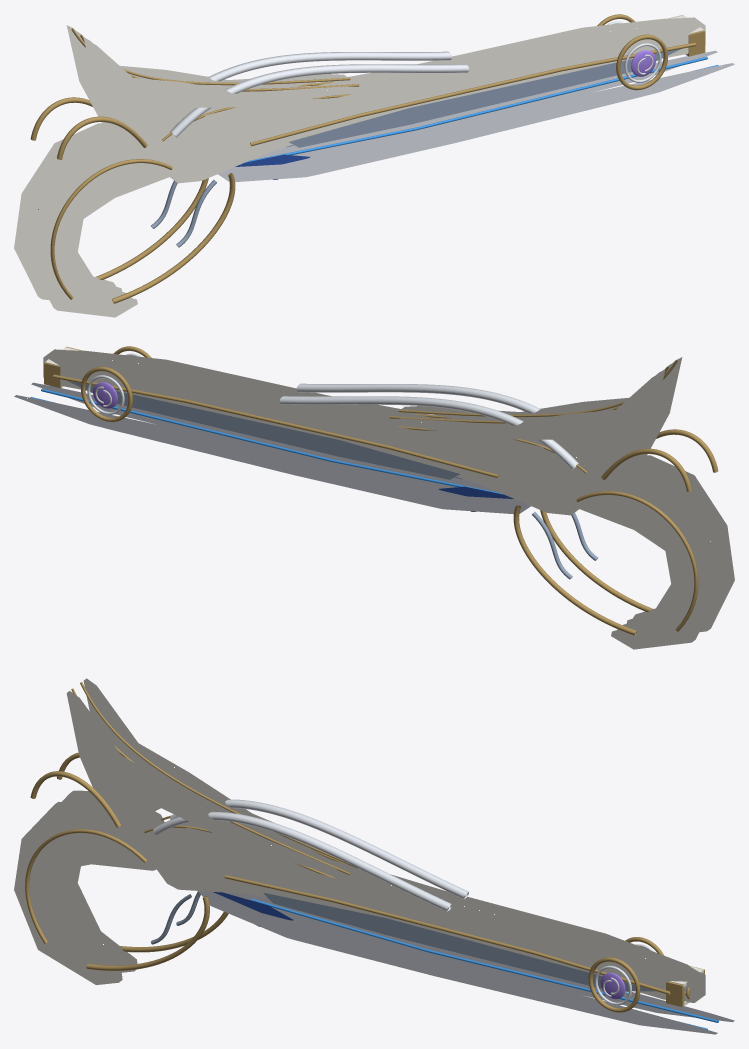
The model's file is lux_and_umbra.obj.
3 views of the same model, one above another, from view 1: azimuth 30°, elevation 25°; view 2: azimuth 150°, elevation 25°; view 3: azimuth 330°, elevation 25° (orthographic).
Parts seen in each view (by area): view 1: lux_and_umbra; view 2: lux_and_umbra; view 3: lux_and_umbra.
Part boxes in pixels (left/top/right/bottom): lux_and_umbra: left=14, top=14, right=734, bottom=317; lux_and_umbra: left=14, top=346, right=734, bottom=649; lux_and_umbra: left=14, top=678, right=734, bottom=1034.
Bounding box in the file's own units: 1.42 × 0.5545 × 0.122.
